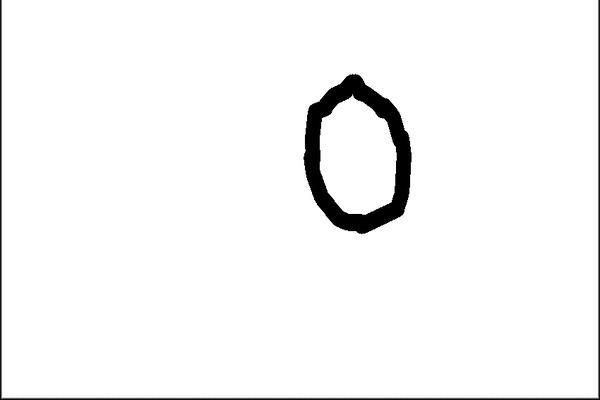O: (286, 68, 421, 232)
